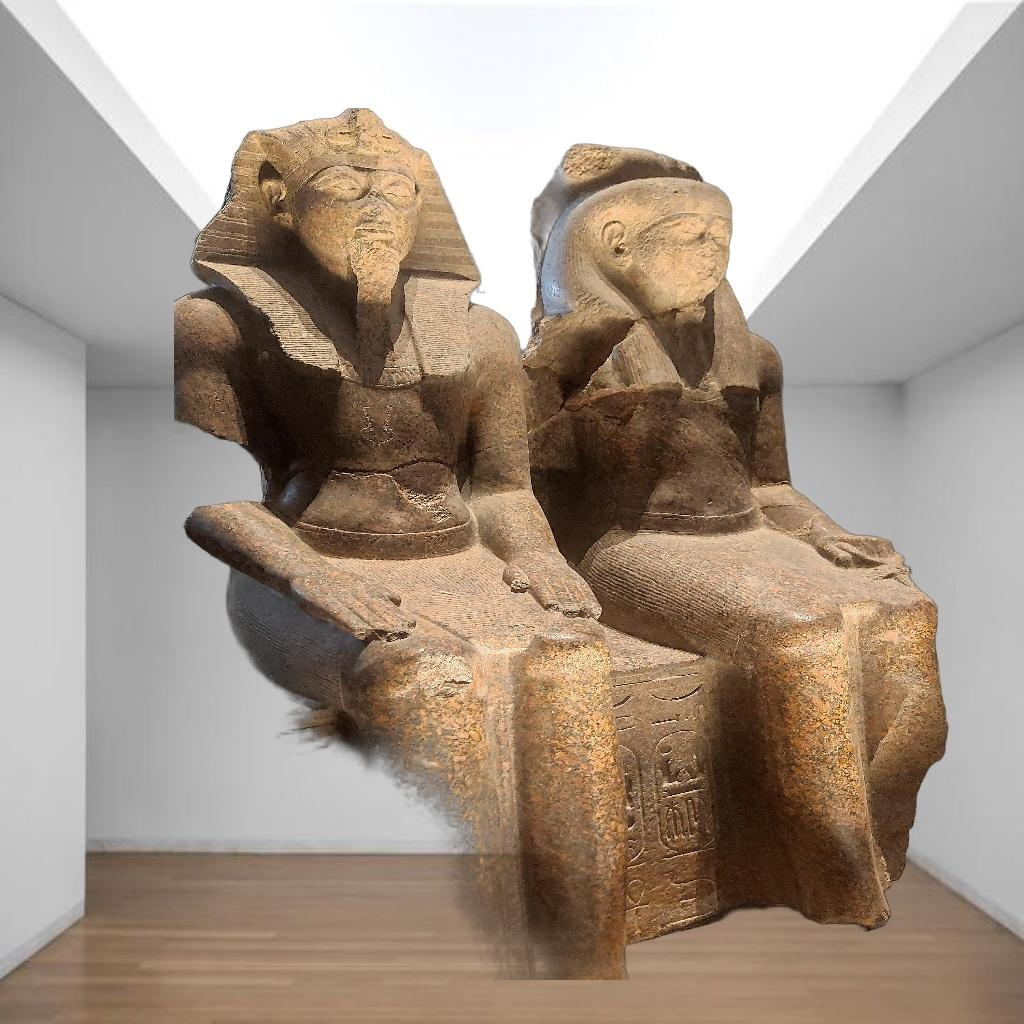Seated Statue of Ramesses II and God Ptah: (174, 108, 1016, 980)
